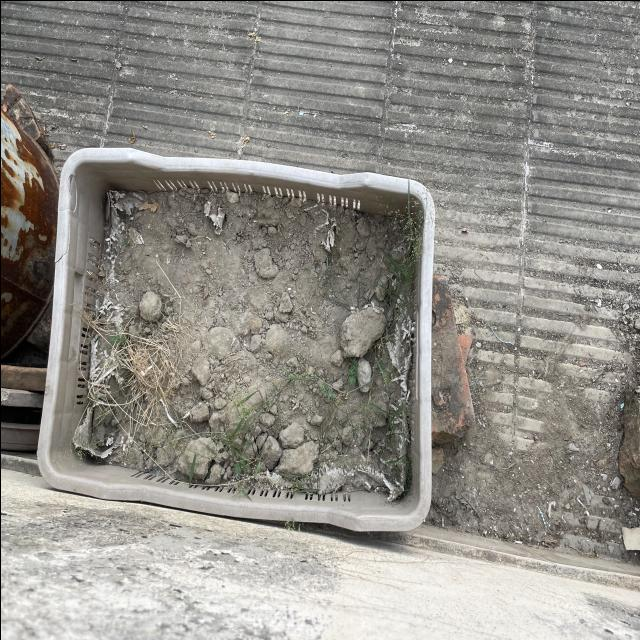Breeding Place: (29, 176, 433, 532)
